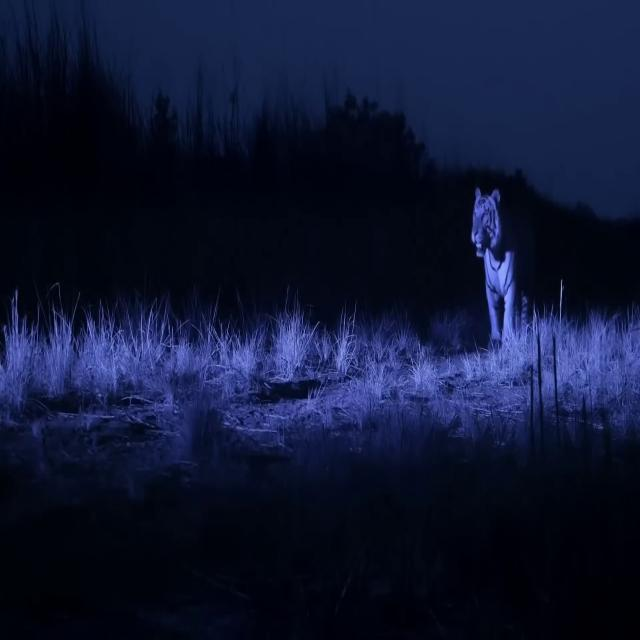tiger: (472, 186, 528, 351)
